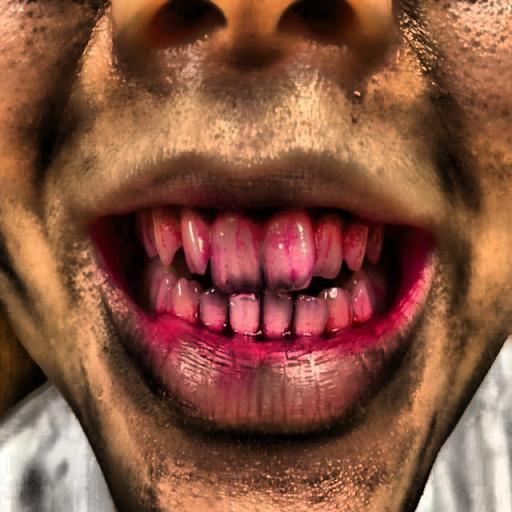Plaque: (140, 181, 403, 329)
